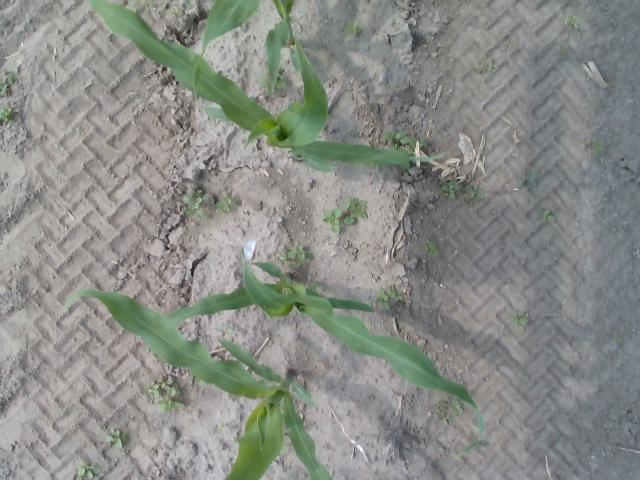Maize: (166, 260, 484, 460), (90, 0, 452, 166), (65, 288, 334, 480), (192, 1, 298, 96)
Weeds: (148, 378, 182, 406), (322, 210, 353, 233), (281, 244, 308, 267), (382, 130, 412, 147), (0, 100, 19, 125), (0, 70, 18, 96), (347, 198, 369, 218), (376, 287, 396, 309), (182, 188, 202, 207), (107, 429, 127, 448), (78, 462, 100, 479), (442, 182, 462, 198), (535, 209, 555, 222), (466, 184, 484, 198), (512, 318, 530, 331), (220, 194, 234, 210), (349, 22, 362, 36), (566, 15, 580, 28), (592, 139, 606, 150), (426, 244, 438, 255)
